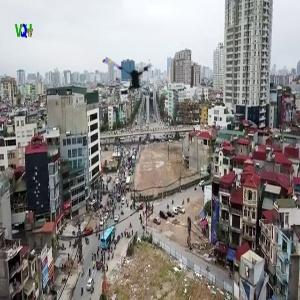drone: (98, 51, 157, 110)
